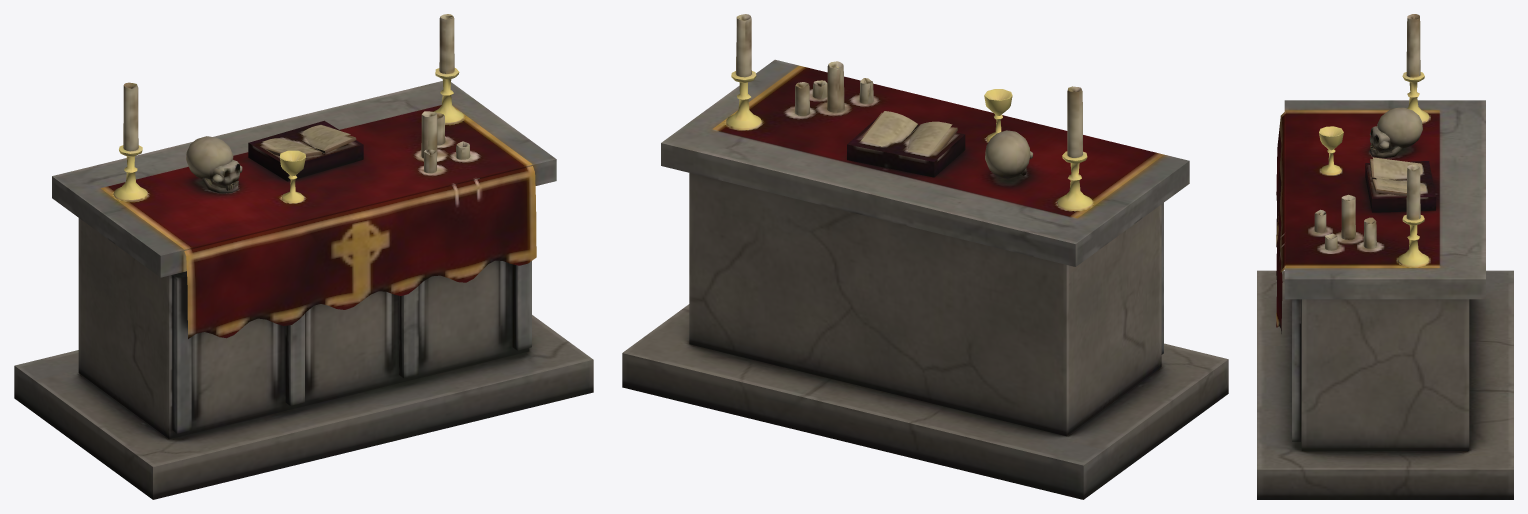
The model's file is cathedral_altar.glb.
The picture shows the model from 3 angles, left to right: view 1: azimuth 30°, elevation 25°; view 2: azimuth 150°, elevation 25°; view 3: azimuth 270°, elevation 25°; orthographic projection. The views are drawn at different scales.
Parts seen in each view (by area): view 1: cathedral_altar; view 2: cathedral_altar; view 3: cathedral_altar.
Part boxes in pixels (<box>): cathedral_altar: <box>14,14,593,499</box>; cathedral_altar: <box>622,14,1228,499</box>; cathedral_altar: <box>1257,14,1513,499</box>.
Bounding box in the file's own units: 2.17 × 1.59 × 1.19.
Materials: 1 (1 with a texture image).
